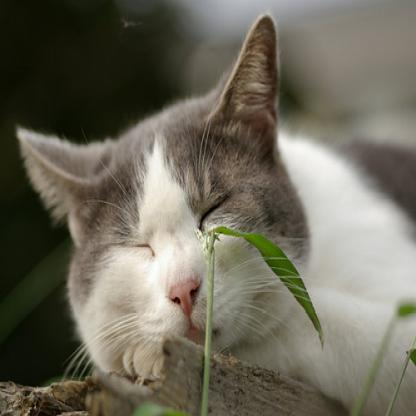cat: (0, 9, 385, 372)
